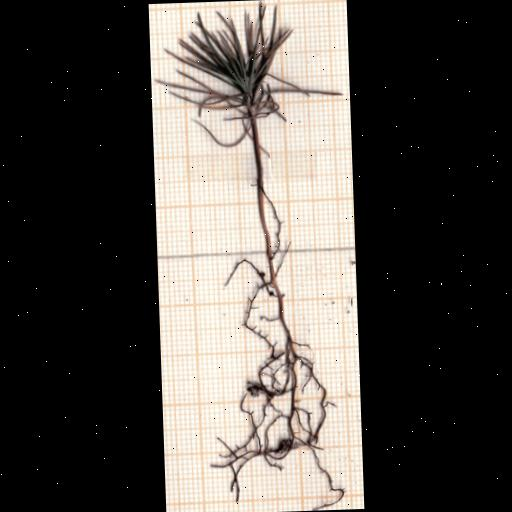flowerCedr: (158, 1, 341, 148)
rootCedr: (226, 244, 328, 467)
stemCedr: (251, 119, 271, 262)
